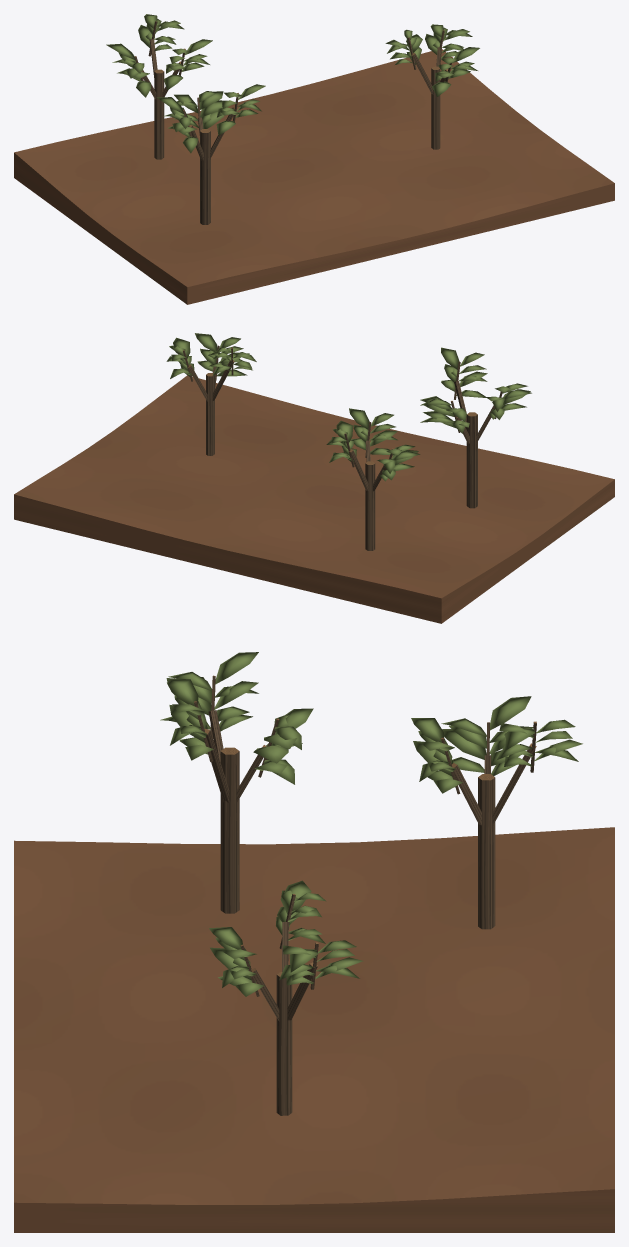
3 renders of one model, top to bottom at view 1: azimuth 30°, elevation 25°; view 2: azimuth 150°, elevation 25°; view 3: azimuth 270°, elevation 25°, orthographic. The views are drawn at different scales.
Visible parts, largest first — view 1: sydney; view 2: sydney; view 3: sydney.
Boxes of the visible parts, x1,y1,x2,y2 form: sydney: (14,14,614,304); sydney: (14,333,614,623); sydney: (14,652,614,1232).
Size of the model in its own units: 7.4 by 2.55 by 5.2.
Materials: 1 (1 with a texture image).
